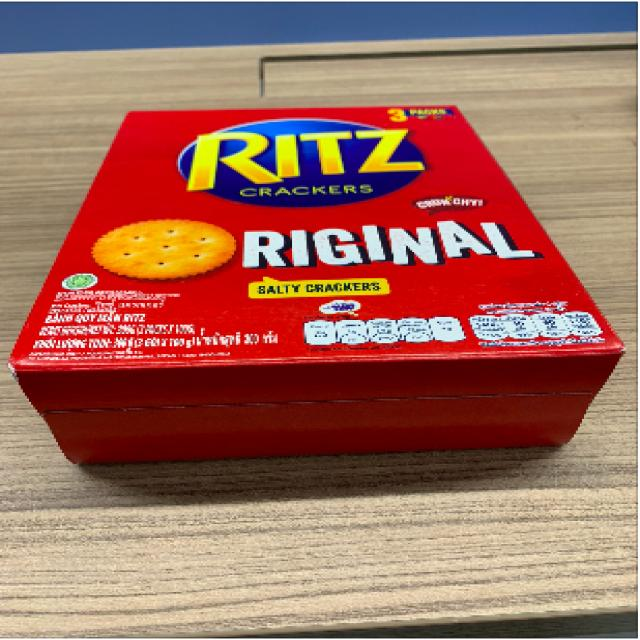object_name: (51, 114, 581, 451)
